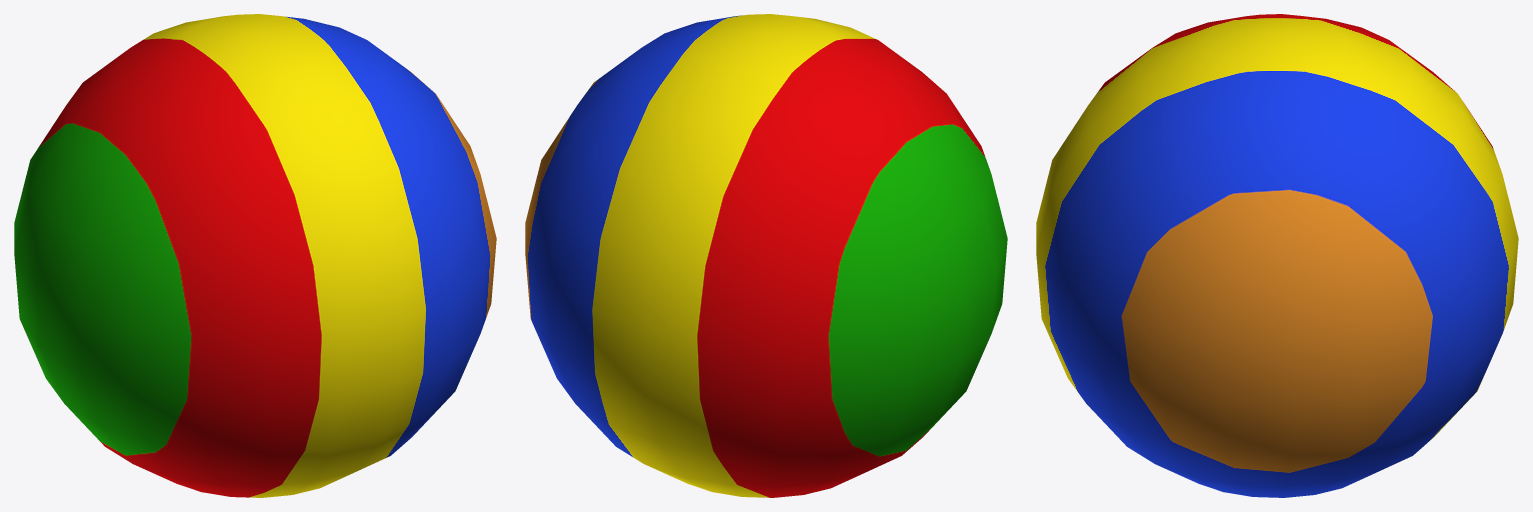
The model's file is Ball 1.FBX.
The picture shows the model from 3 angles, left to right: view 1: azimuth 30°, elevation 25°; view 2: azimuth 150°, elevation 25°; view 3: azimuth 270°, elevation 25°; orthographic projection.
Visible parts, largest first — view 1: Ball 1; view 2: Ball 1; view 3: Ball 1.
Part boxes in pixels (bbox=[...]): Ball 1: bbox=[14, 14, 496, 497]; Ball 1: bbox=[525, 14, 1007, 497]; Ball 1: bbox=[1036, 14, 1518, 497].
Size of the model in its own units: 25.07 by 25.21 by 25.
Materials: 1 (1 with a texture image).
